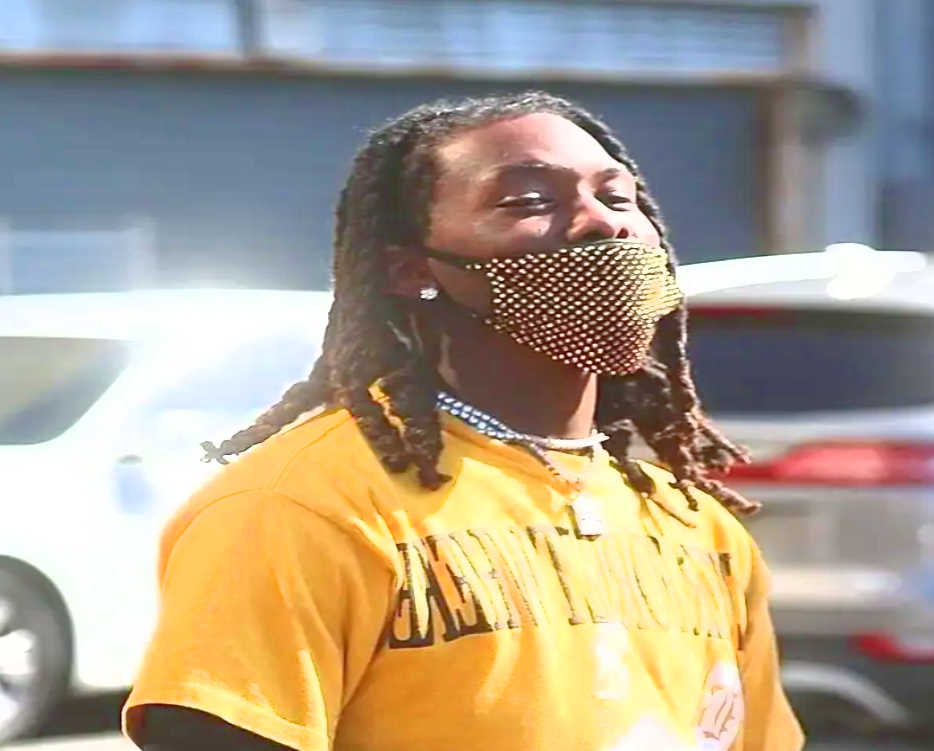mask_weared_incorrect: (339, 90, 689, 377)
